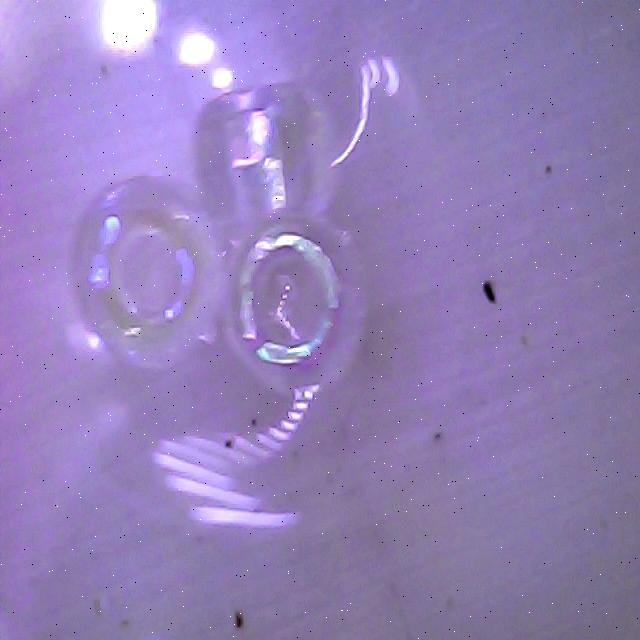beads: (68, 173, 221, 373), (223, 211, 372, 397), (191, 79, 331, 228)
